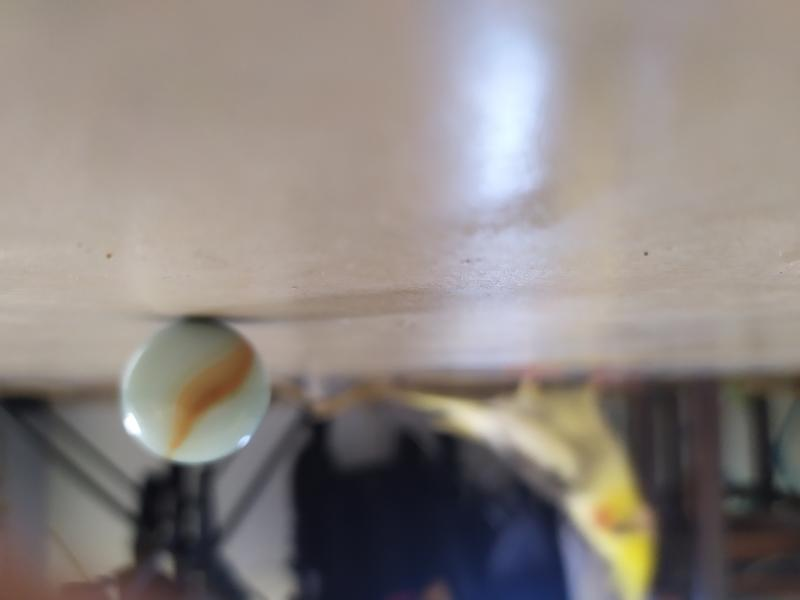Warning: (115, 310, 275, 469)
